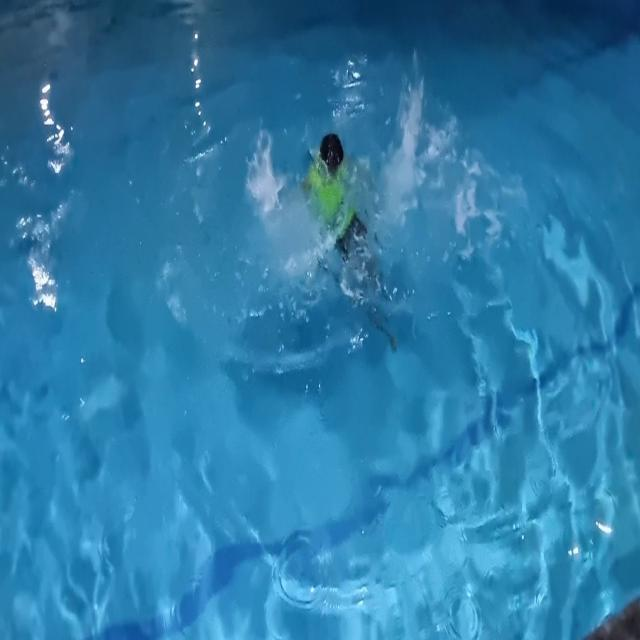Drowning: (253, 100, 442, 342)
